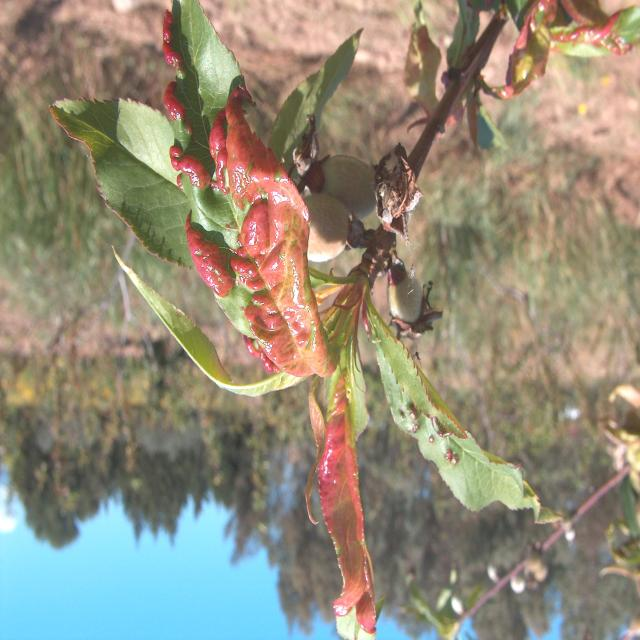peach_leaf_curl: (170, 83, 335, 381)
